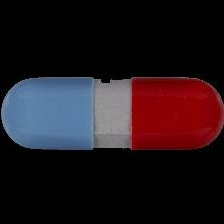50844-519: (0, 0, 224, 224)
